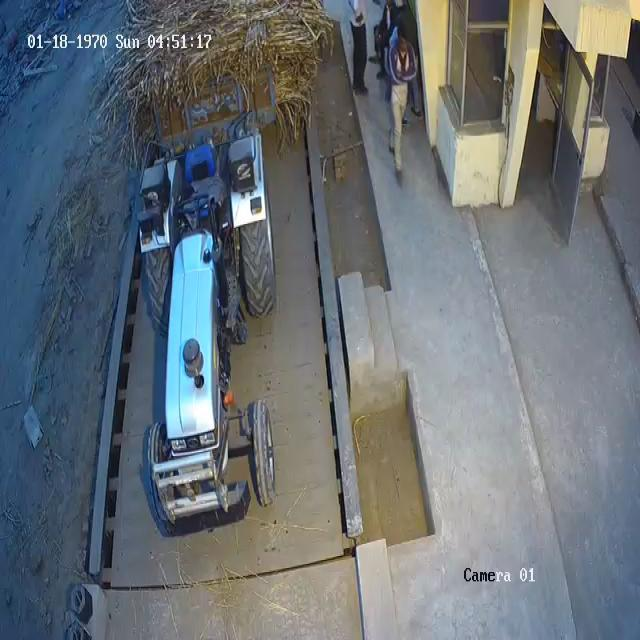Tratores - v5 YOLO V8L 2024-11-13: (140, 132, 282, 536)
